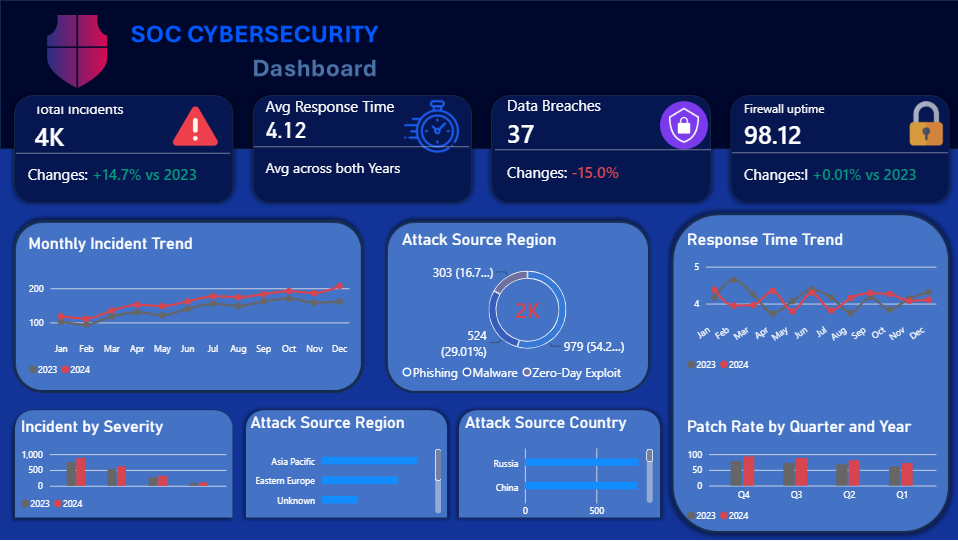

The page's visual inventory and layout, read from the dashboard file:
{"tool":"powerbi","page":{"name":"Page 1","canvas":[1920,1080],"ordinal":0},"visuals":[{"type":"cardVisual","fields":{"Data":["DAX House.Total Incidents"]},"box":[340.8,308.3,288,142],"z":0},{"type":"cardVisual","fields":{"Data":["DAX House.Avg Response Time"]},"box":[657.6,300,288,142],"z":1000},{"type":"cardVisual","fields":{"Data":["DAX House.Data Breaches"]},"box":[979.5,304.5,288,142],"z":2000},{"type":"cardVisual","fields":{"Data":["DAX House.Firewall uptime"]},"box":[1295.7,307.1,288.6,142.9],"z":3000},{"type":"lineChart","title":"Monthly Incident Trend ","fields":{"Category":["dim_date.MonthAbbr"],"Series":["dim_date.Year"],"Y":["DAX House.Total Incidents"]},"box":[341.3,474.6,460.3,223.8],"z":4000},{"type":"lineChart","title":"Response Time Trend","fields":{"Category":["dim_date.MonthAbbr"],"Series":["dim_date.Year"],"Y":["DAX House.Avg Response Time"]},"box":[1219.6,468.6,364.7,223.5],"z":5000},{"type":"clusteredColumnChart","fields":{"Category":["dim_date.Quarter"],"Series":["dim_date.Year"],"Y":["DAX House.Patch Rate"]},"box":[1219.6,717.6,364.7,174.5],"z":6000},{"type":"clusteredColumnChart","title":"Incident by Severity","fields":{"Category":["dim_severity.Severity"],"Series":["dim_date.Year"],"Y":["DAX House.Total Incidents"]},"box":[331.4,717.6,305.9,158.8],"z":7000},{"type":"clusteredBarChart","title":"Attack Source Country","fields":{"Category":["dim_attack_source.Country"],"Y":["DAX House.Total Incidents"]},"box":[923.5,711.8,282.4,174.5],"z":8000},{"type":"clusteredBarChart","title":"Attack Source Region","fields":{"Category":["dim_attack_source.Region"],"Y":["DAX House.Total Incidents"]},"box":[637.3,711.8,286.3,164.7],"z":9000},{"type":"donutChart","title":"Attack Source Region","fields":{"Category":["dim_attack_type.AttackType"],"Y":["DAX House.Total Incidents"]},"box":[839.2,468.6,366.7,235.3],"z":10000}]}

Visuals, with their boxes in screenshot pixels (x1, y1, x2, y2), scaled from the page's 1920x1080 canvas onto the 958x541 screenshot:
cardVisual - DAX House.Total Incidents: x1=170, y1=154, x2=314, y2=226
cardVisual - DAX House.Avg Response Time: x1=328, y1=150, x2=472, y2=221
cardVisual - DAX House.Data Breaches: x1=489, y1=153, x2=632, y2=224
cardVisual - DAX House.Firewall uptime: x1=647, y1=154, x2=790, y2=225
"Monthly Incident Trend " lineChart: x1=170, y1=238, x2=400, y2=350
"Response Time Trend" lineChart: x1=609, y1=235, x2=790, y2=347
clusteredColumnChart - dim_date.Quarter x dim_date.Year: x1=609, y1=359, x2=790, y2=447
"Incident by Severity" clusteredColumnChart: x1=165, y1=359, x2=318, y2=439
"Attack Source Country" clusteredBarChart: x1=461, y1=357, x2=602, y2=444
"Attack Source Region" clusteredBarChart: x1=318, y1=357, x2=461, y2=439
"Attack Source Region" donutChart: x1=419, y1=235, x2=602, y2=353
